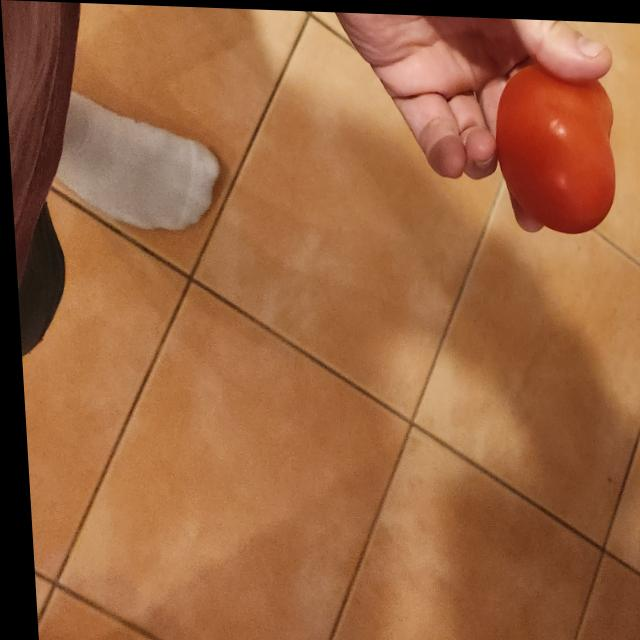tomato: (492, 55, 616, 230)
